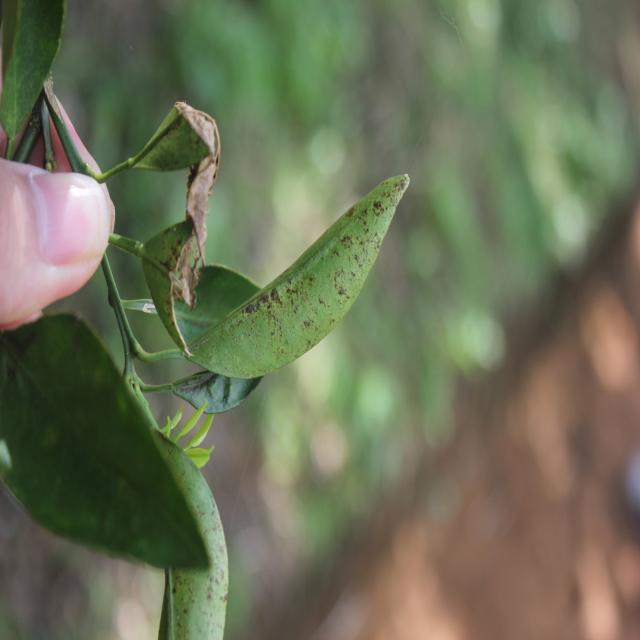melanose: (186, 167, 417, 418), (139, 428, 239, 640)
